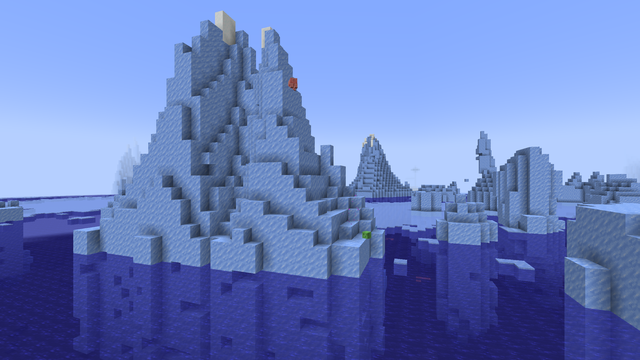cochons: (288, 77, 298, 90)
slimes: (362, 230, 369, 238)
